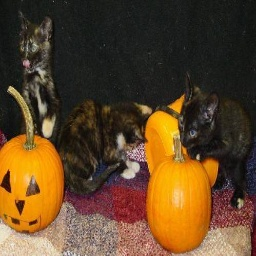cat: (15, 11, 256, 206)
